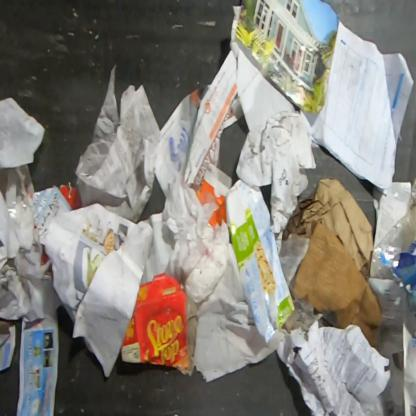cardboard: (293, 220, 384, 347), (121, 272, 190, 369), (381, 239, 415, 312), (53, 181, 81, 211), (40, 247, 51, 266)
rigid_plastic: (369, 173, 416, 278), (6, 198, 36, 228)
